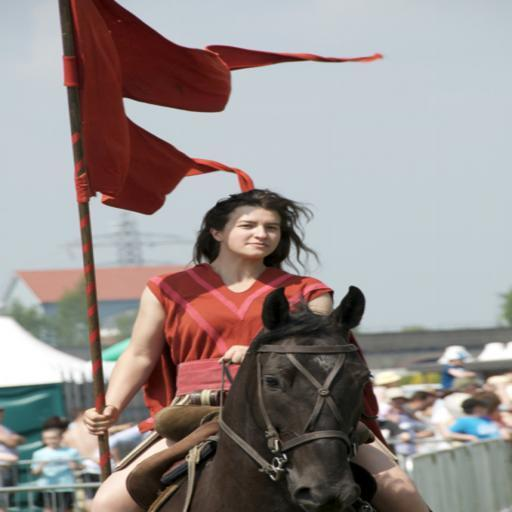horse: (156, 284, 376, 512)
